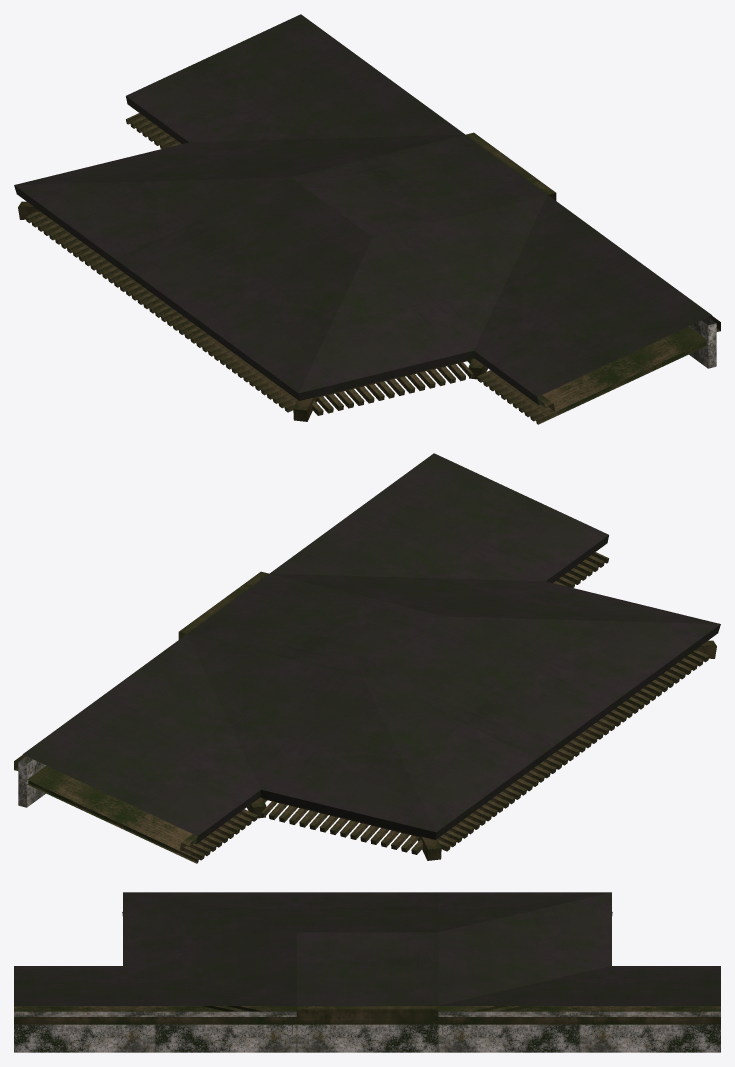
The model's file is shrine_roof_12.fbx.
The picture shows the model from 3 angles, top to bottom: view 1: azimuth 30°, elevation 25°; view 2: azimuth 150°, elevation 25°; view 3: azimuth 270°, elevation 25°; orthographic projection. The views are drawn at different scales.
Visible parts, largest first — view 1: shrine_roof_12; view 2: shrine_roof_12; view 3: shrine_roof_12.
Boxes of the visible parts, x1,y1,x2,y2 form: shrine_roof_12: [14, 14, 720, 424]; shrine_roof_12: [14, 453, 720, 863]; shrine_roof_12: [14, 892, 720, 1052].
Bounding box in the file's own units: 832 × 157 × 1650.
4 materials, 4 textured.
